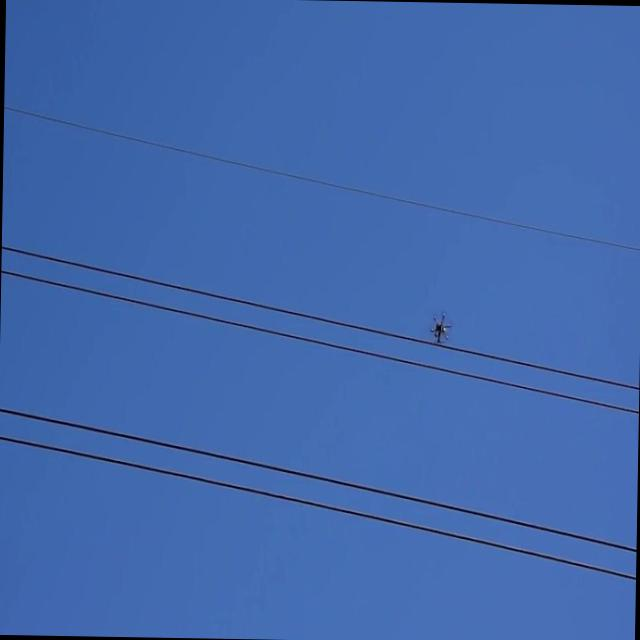drone: (428, 308, 453, 346)
